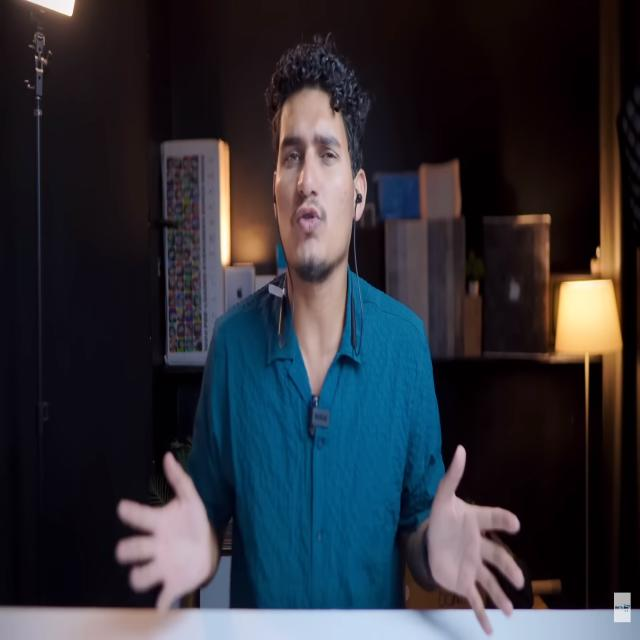Earphone: (272, 190, 364, 356)
